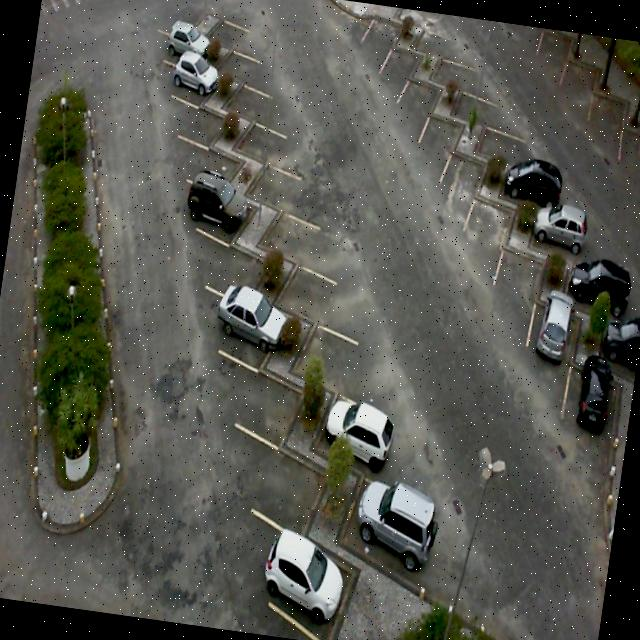empty: (247, 416, 344, 525), (230, 341, 316, 439), (299, 308, 376, 394), (275, 246, 356, 324), (203, 223, 276, 294), (264, 196, 339, 265), (493, 235, 548, 324), (252, 146, 323, 210), (226, 64, 294, 125), (182, 125, 248, 187), (462, 191, 516, 266), (434, 142, 488, 214), (173, 81, 234, 143), (357, 5, 407, 76), (416, 106, 465, 178), (242, 109, 304, 164), (456, 76, 516, 130), (376, 42, 425, 107), (394, 70, 443, 133), (478, 115, 532, 166), (417, 14, 471, 61), (559, 55, 602, 114), (586, 82, 628, 142), (219, 39, 273, 85), (204, 8, 258, 54), (438, 48, 487, 94), (617, 114, 640, 186)
occupied: (267, 505, 376, 640), (304, 382, 394, 479), (346, 468, 432, 568), (214, 278, 296, 367), (559, 362, 623, 448), (198, 169, 268, 241), (566, 253, 632, 324), (526, 288, 580, 372), (534, 203, 603, 265), (505, 154, 567, 212), (597, 318, 640, 391), (170, 52, 228, 104), (163, 17, 216, 69)
